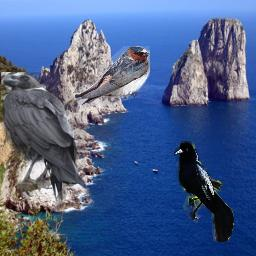Crow: (1, 72, 87, 207), (174, 141, 234, 242)
Swallow: (75, 46, 150, 106)
